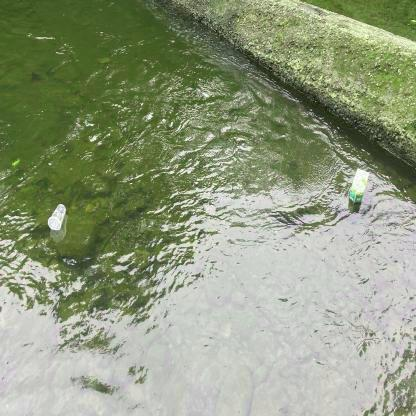Plastic: (47, 201, 69, 234)
